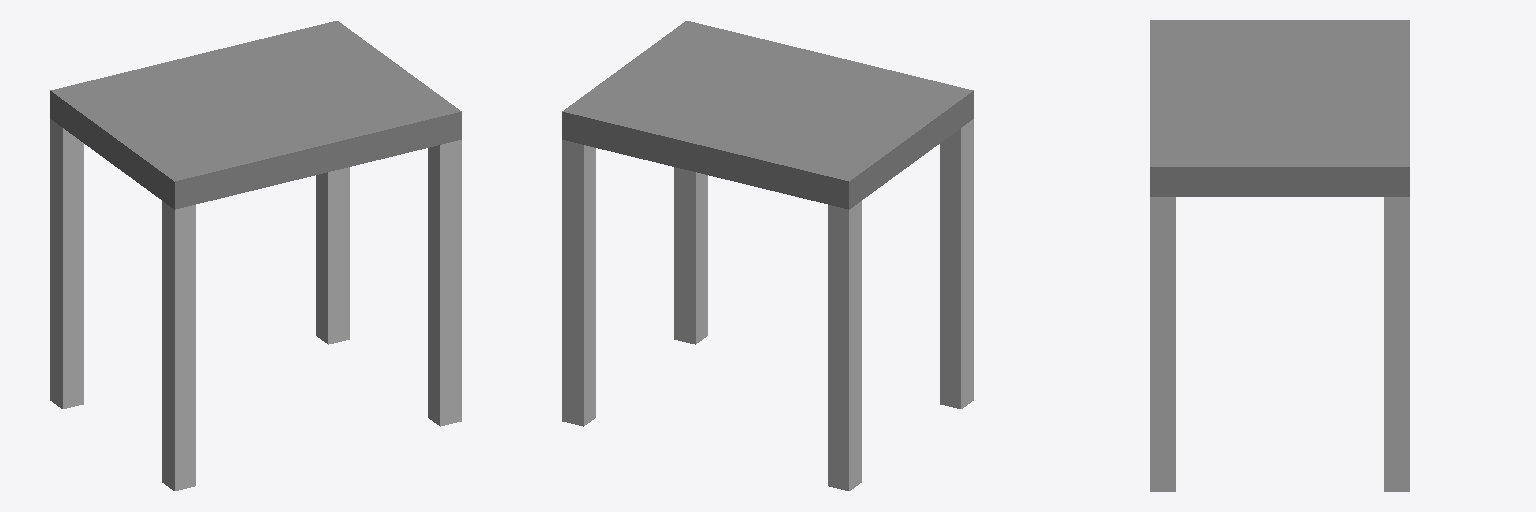
robot.urdf — plane:
<?xml version="1.0" ?>
<robot name="plane">

  <link name="link_plane">
    <contact>
        <lateral_friction value="1"/>
    </contact>
    
    <inertial>
      <origin rpy="0 0 0" xyz="0 0 0"/>
      <mass value=".0"/>
      <inertia ixx="0" ixy="0" ixz="0" iyy="0" iyz="0" izz="0"/>
    </inertial>
      
    <visual>
      <origin rpy="0 0 0" xyz="0 0 0"/>
      <geometry>
        <mesh filename="meshes/table_plane.obj" />
      </geometry>
      <material name="table_gray"/>
    </visual>
    
    <collision>
      <origin rpy="0 0 0" xyz="0 0 0"/>
      <geometry>
        <mesh filename="meshes/table_plane.obj" />
      </geometry>
    </collision>

    <visual>
      <origin rpy="0 0 0" xyz="0.37 0.27 -0.4125"/>
      <geometry>
        <mesh filename="meshes/table_leg.obj" />
      </geometry>
      <material name="leg_gray"/>
    </visual>
    
    <collision>
      <origin rpy="0 0 0" xyz="0.37 0.27 -0.4125"/>
      <geometry>
        <mesh filename="meshes/table_leg.obj" />
      </geometry>
    </collision>

    <visual>
      <origin rpy="0 0 0" xyz="-0.37 0.27 -0.4125"/>
      <geometry>
        <mesh filename="meshes/table_leg.obj" />
      </geometry>
      <material name="leg_gray"/>
    </visual>
    
    <collision>
      <origin rpy="0 0 0" xyz="-0.37 0.27 -0.4125"/>
      <geometry>
        <mesh filename="meshes/table_leg.obj" />
      </geometry>
    </collision>

    <visual>
      <origin rpy="0 0 0" xyz="0.37 -0.27 -0.4125"/>
      <geometry>
        <mesh filename="meshes/table_leg.obj" />
      </geometry>
      <material name="leg_gray"/>
    </visual>
    
    <collision>
      <origin rpy="0 0 0" xyz="0.37 -0.27 -0.4125"/>
      <geometry>
        <mesh filename="meshes/table_leg.obj" />
      </geometry>
    </collision>
      
    <visual>
      <origin rpy="0 0 0" xyz="-0.37 -0.27 -0.4125"/>
      <geometry>
        <mesh filename="meshes/table_leg.obj" />
      </geometry>
      <material name="leg_gray"/>
    </visual>
    
    <collision>
      <origin rpy="0 0 0" xyz="-0.37 -0.27 -0.4125"/>
      <geometry>
        <mesh filename="meshes/table_leg.obj" />
      </geometry>
    </collision>
      
  </link>

  <material name="table_gray">
    <color rgba=".6 .6 .6 1."/>
  </material>

  <material name="leg_gray">
    <color rgba=".8 .8 .8 1."/>
  </material>

</robot>

--- Facts derived from the render (not from the file) ---
Views: 3 orthographic renders of the robot side by side, from view 1: azimuth 30°, elevation 25°; view 2: azimuth 150°, elevation 25°; view 3: azimuth 270°, elevation 25°.
Robot: plane — 1 links, 0 joints (none); root link link_plane; default pose: all joints at 0.
Visible links, largest first — view 1: link_plane; view 2: link_plane; view 3: link_plane.
Boxes of the visible links, left/top/right/bottom form: link_plane: left=50, top=21, right=461, bottom=490; link_plane: left=562, top=21, right=973, bottom=490; link_plane: left=1150, top=20, right=1409, bottom=491.
Size in the robot's own frame: 0.8 by 0.6 by 0.825 metres.
5 mesh visuals loaded from 2 distinct referenced files (2 OBJ).